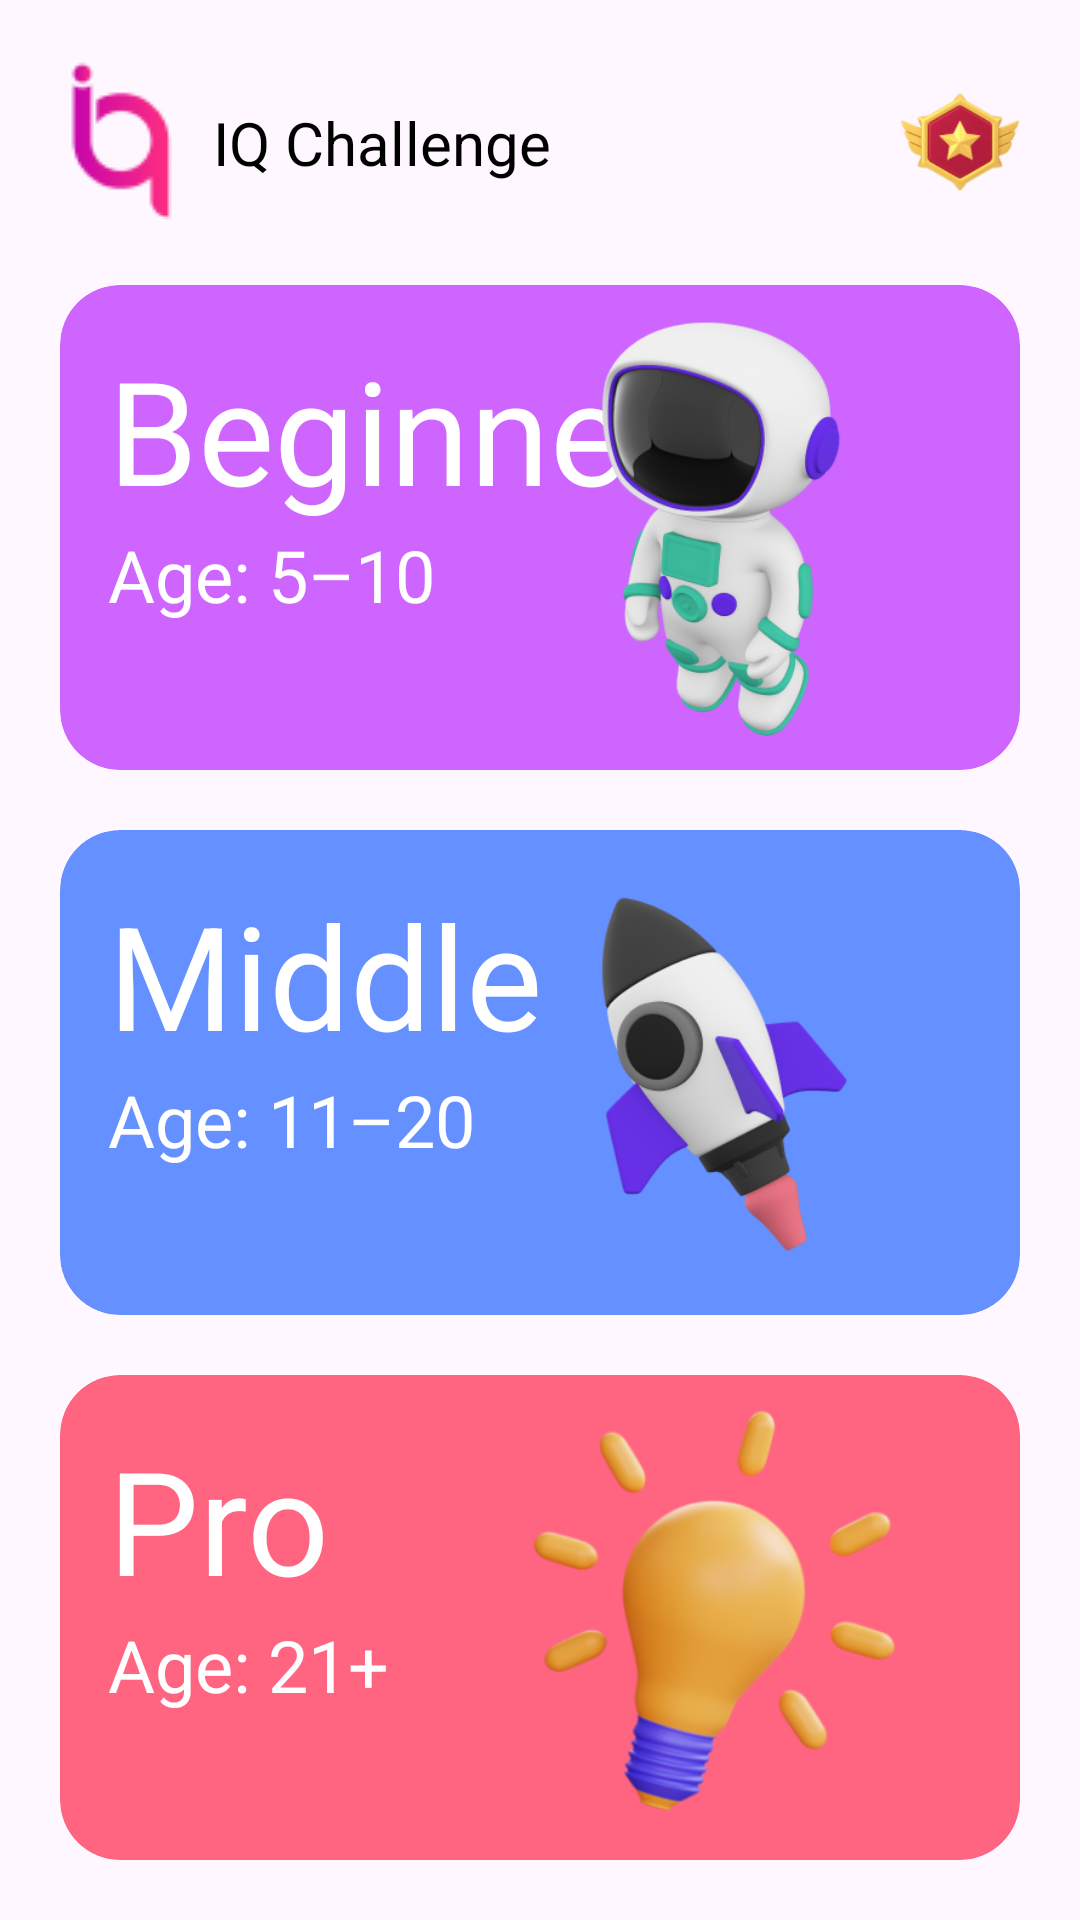

Where to tap for icons on this 1080px x 1920px app screen, as [x,y]:
leader board: [960,142]
